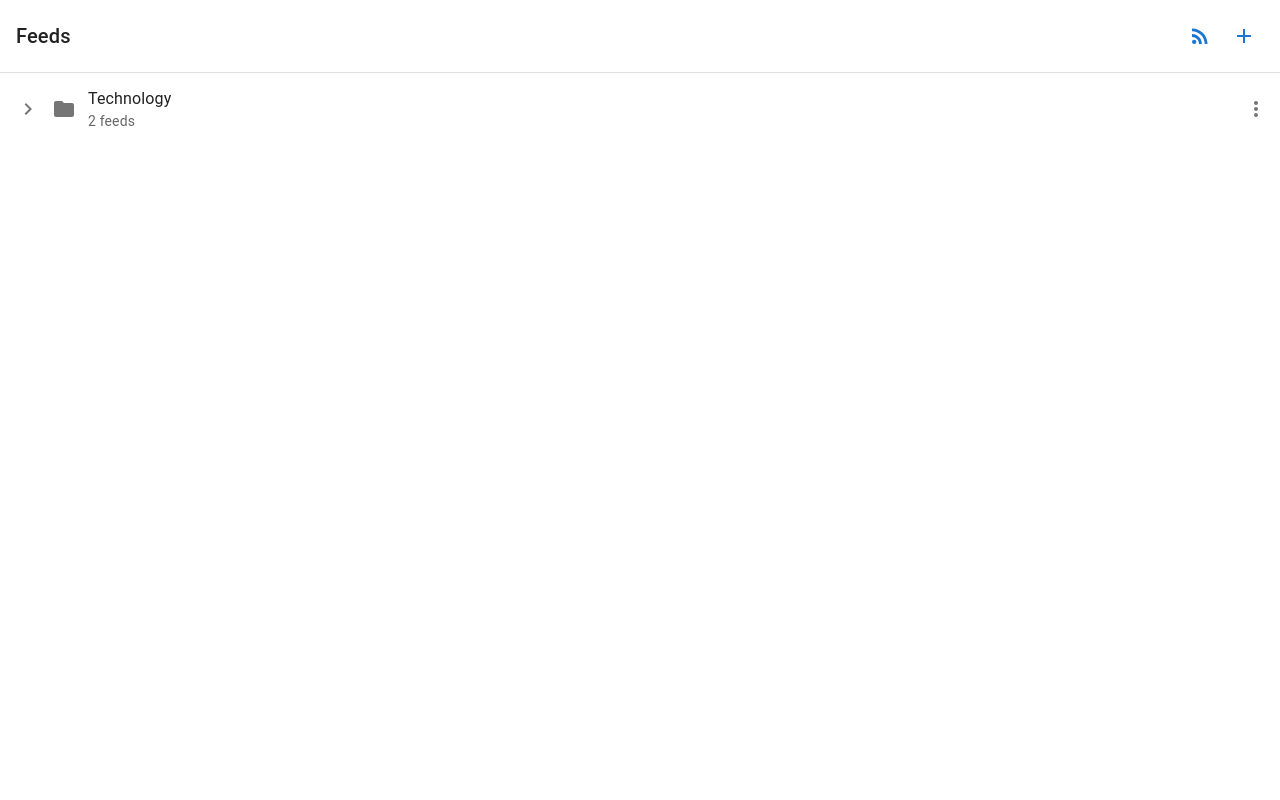
Test: CategoryList › category deletion › should cancel deletion and close dialog on cancel
Click the button named "category options".
click(1256, 109)  # box [1236, 89, 1276, 129]
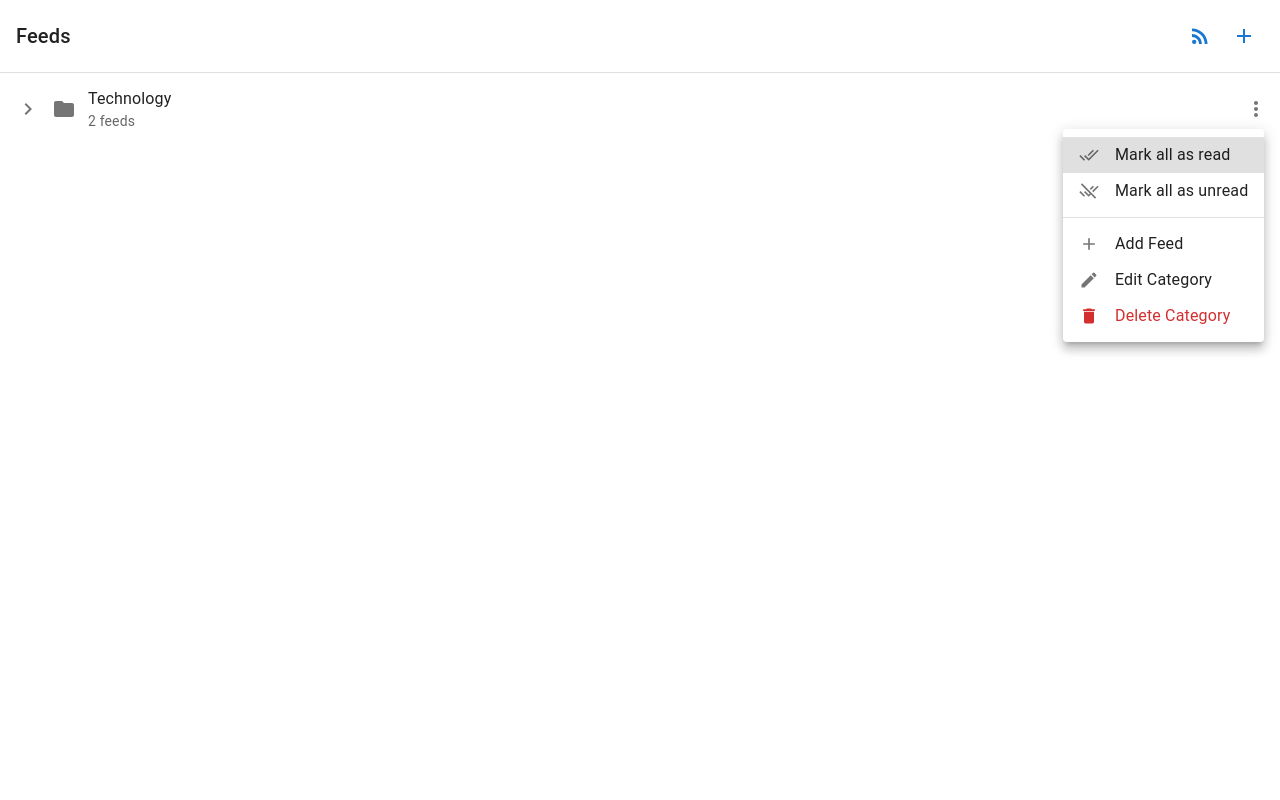
Click the menu item "Delete Category".
click(1155, 316)  # box [1079, 306, 1230, 326]
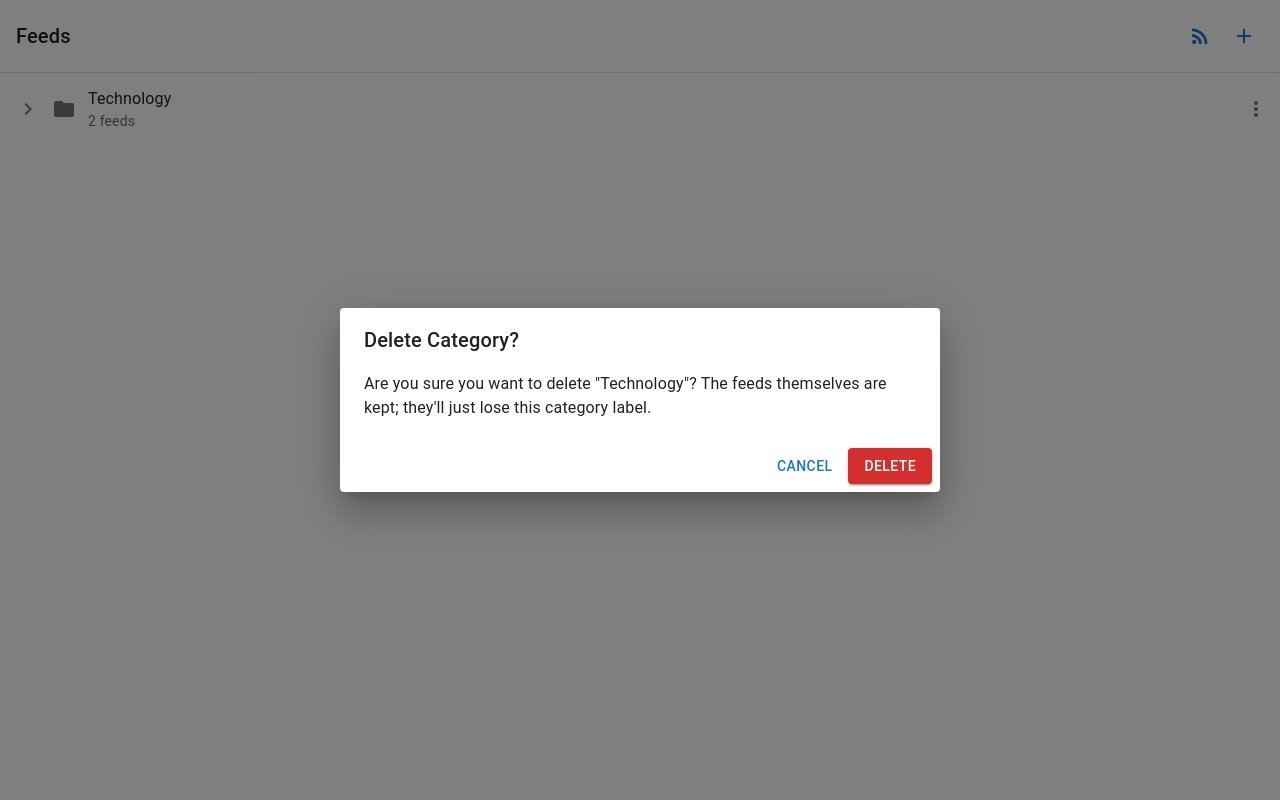
Expected: the heading "Delete Category?" is shown, [364, 328, 519, 352]
Click the button "Cancel".
click(805, 466)  # box [769, 448, 840, 484]
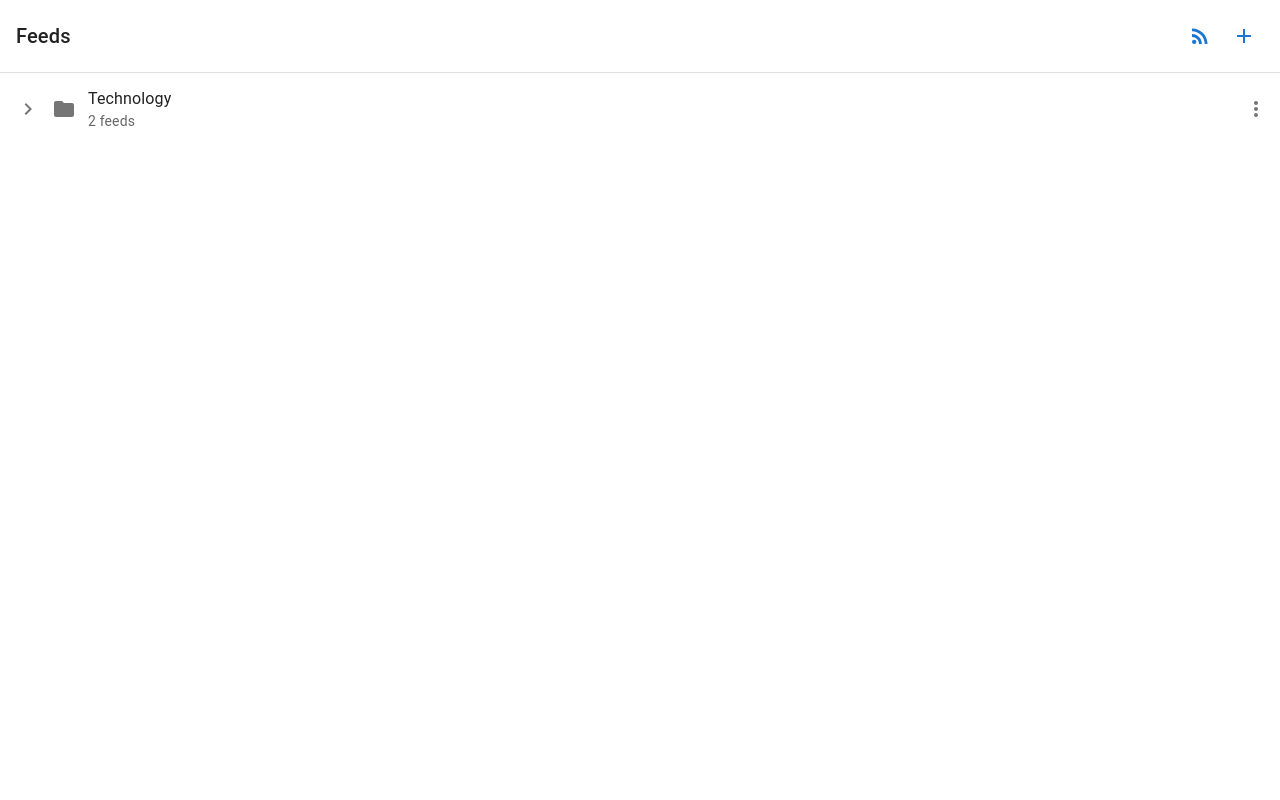
Expected: the heading "Delete Category?" is gone
